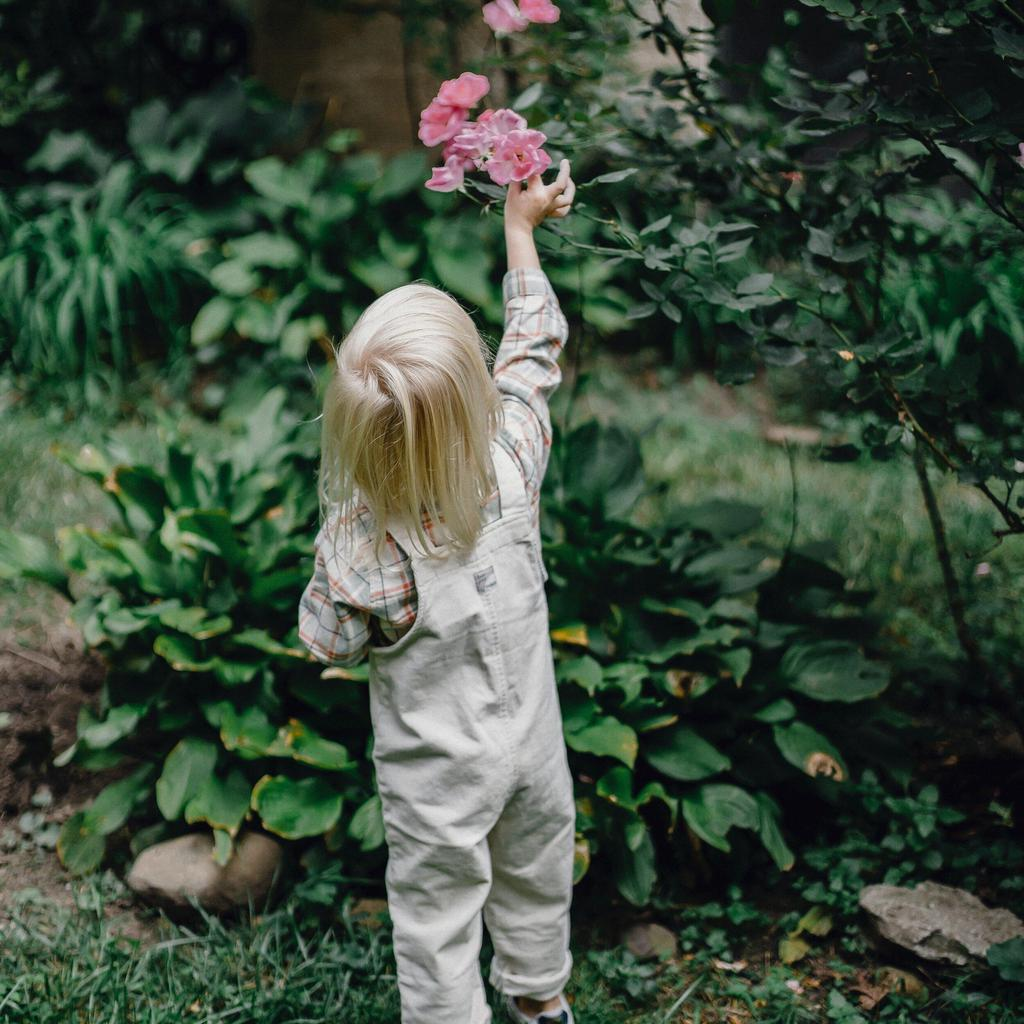child: (256, 138, 621, 1024)
